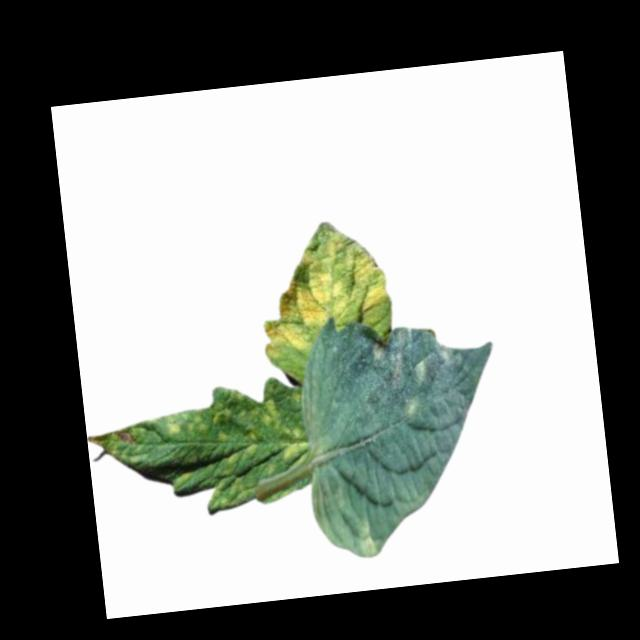Leaf_Mold: (82, 373, 319, 525), (251, 214, 397, 361), (369, 323, 468, 420), (307, 462, 383, 563)
